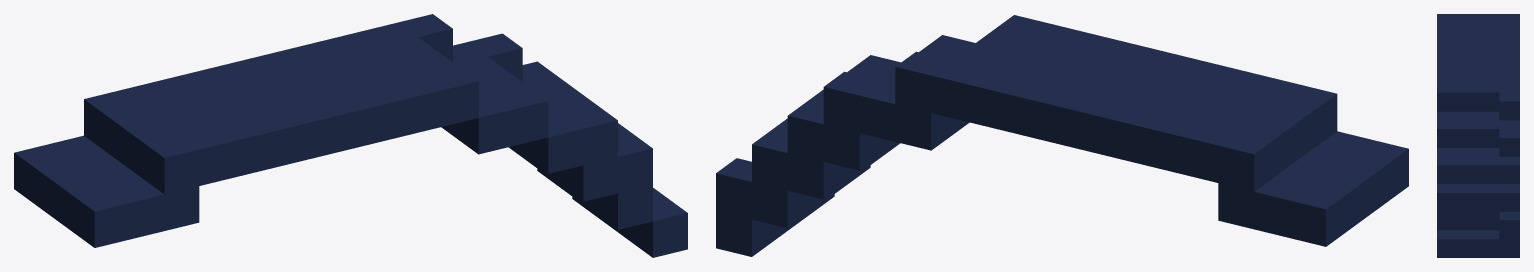
File: touring_bike_front_mudguard.glb
3 renders of one model, left to right at view 1: azimuth 30°, elevation 25°; view 2: azimuth 150°, elevation 25°; view 3: azimuth 270°, elevation 25°, orthographic. The views are drawn at different scales.
Visible parts, largest first — view 1: body:compound; view 2: body:compound; view 3: body:compound.
Part boxes in pixels (<box>): body:compound: <box>14,14,687,257</box>; body:compound: <box>716,15,1408,256</box>; body:compound: <box>1437,14,1519,257</box>.
Size of the model in its own units: 0.5312 by 0.1875 by 0.125.
